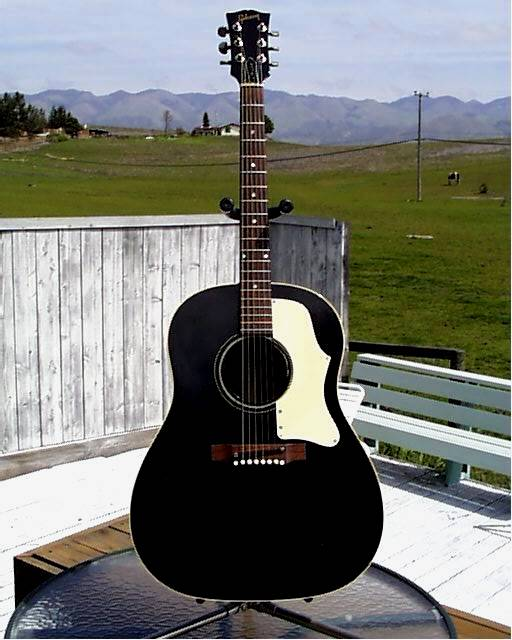guitar: (127, 8, 386, 600)
